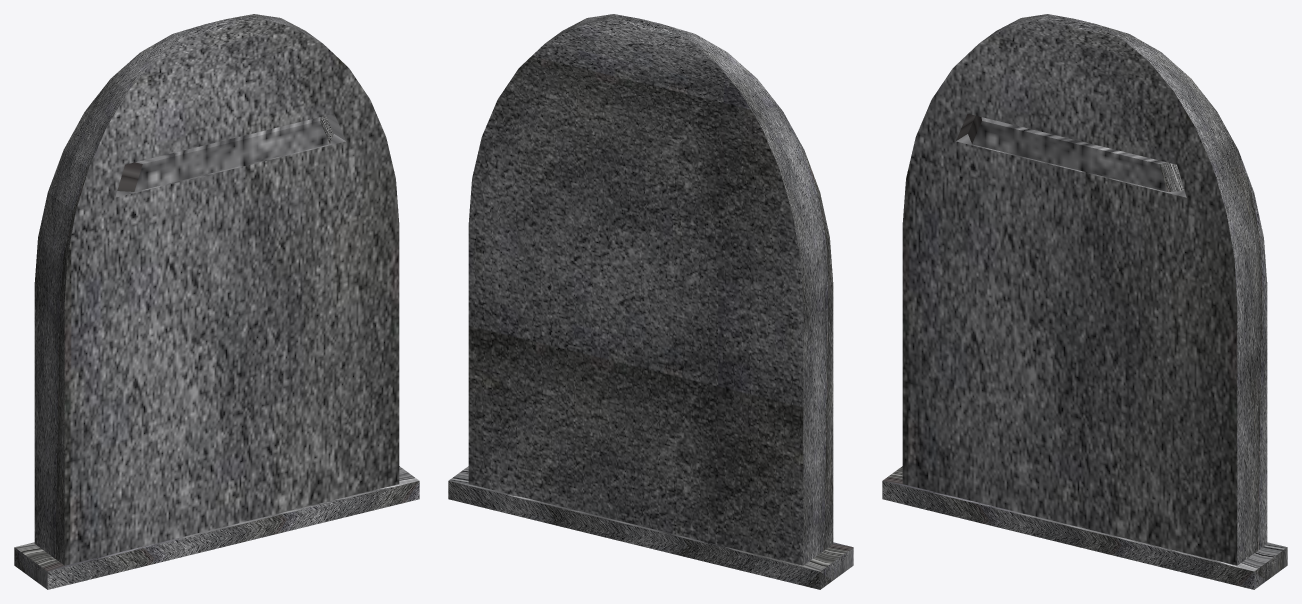
File: Tombstone.fbx
The picture shows the model from 3 angles, left to right: view 1: azimuth 30°, elevation 25°; view 2: azimuth 150°, elevation 25°; view 3: azimuth 330°, elevation 25°; orthographic projection.
Parts seen in each view (by area): view 1: Cube; view 2: Cube; view 3: Cube.
Part boxes in pixels (bbox=[...]): Cube: bbox=[14, 14, 419, 589]; Cube: bbox=[448, 14, 853, 589]; Cube: bbox=[882, 14, 1287, 589].
Size of the model in its own units: 54.01 by 70.82 by 8.36.
